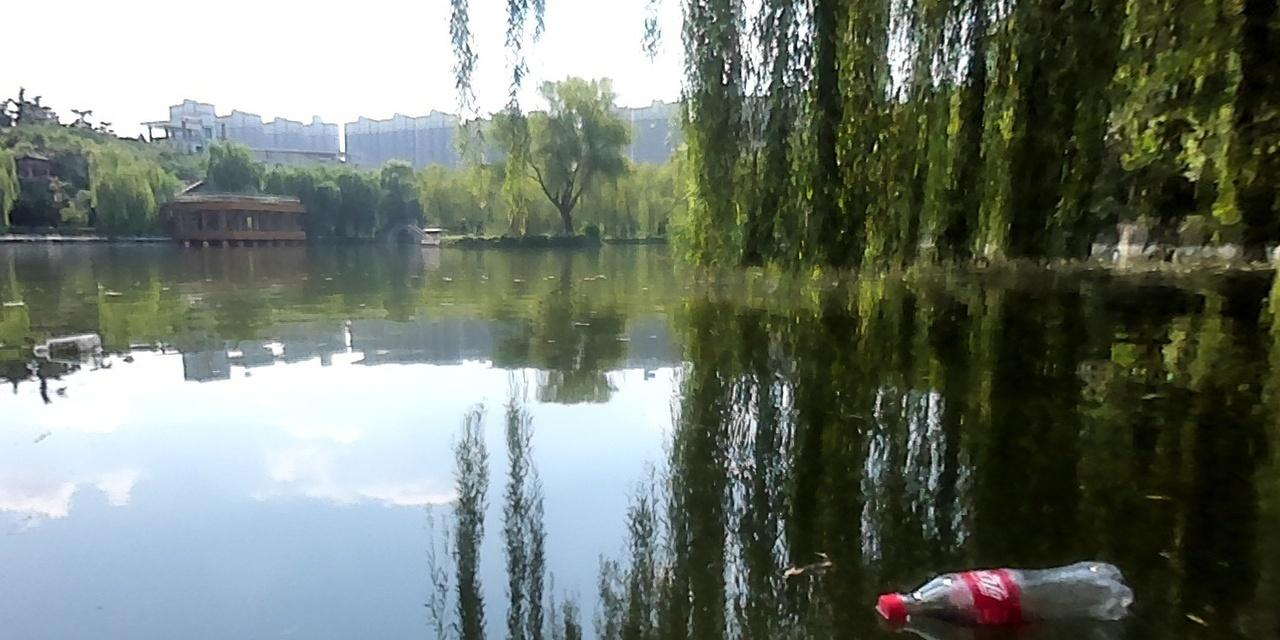bottle: (872, 550, 1141, 628), (30, 331, 104, 359)
